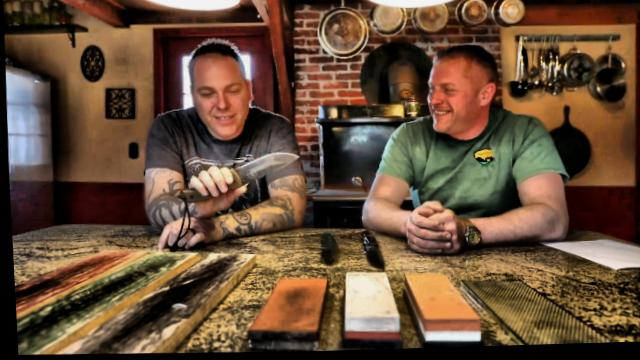knife: (194, 141, 307, 203)
